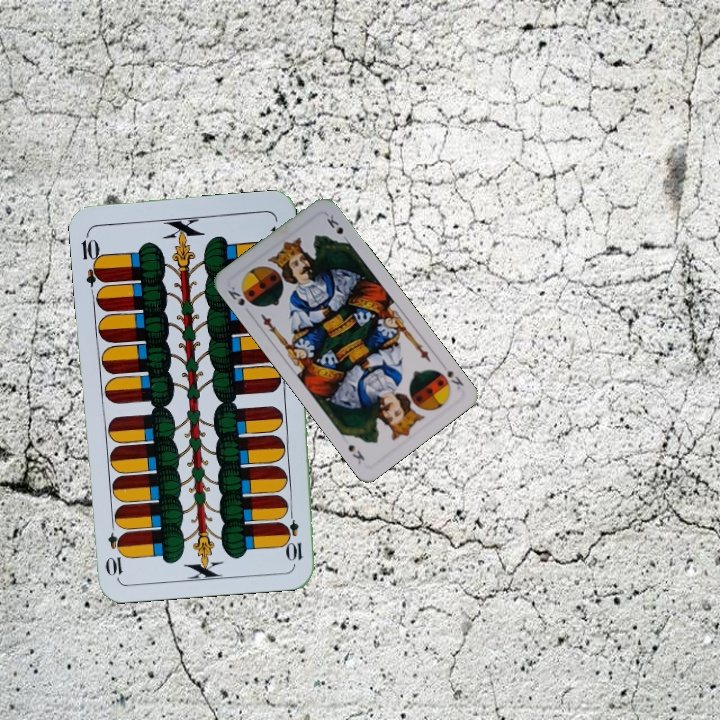E10: (77, 229, 107, 288), (283, 504, 305, 564)
SK: (223, 282, 247, 309), (443, 365, 466, 392)
